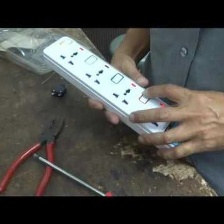three_eye_plug: (39, 34, 195, 158)
